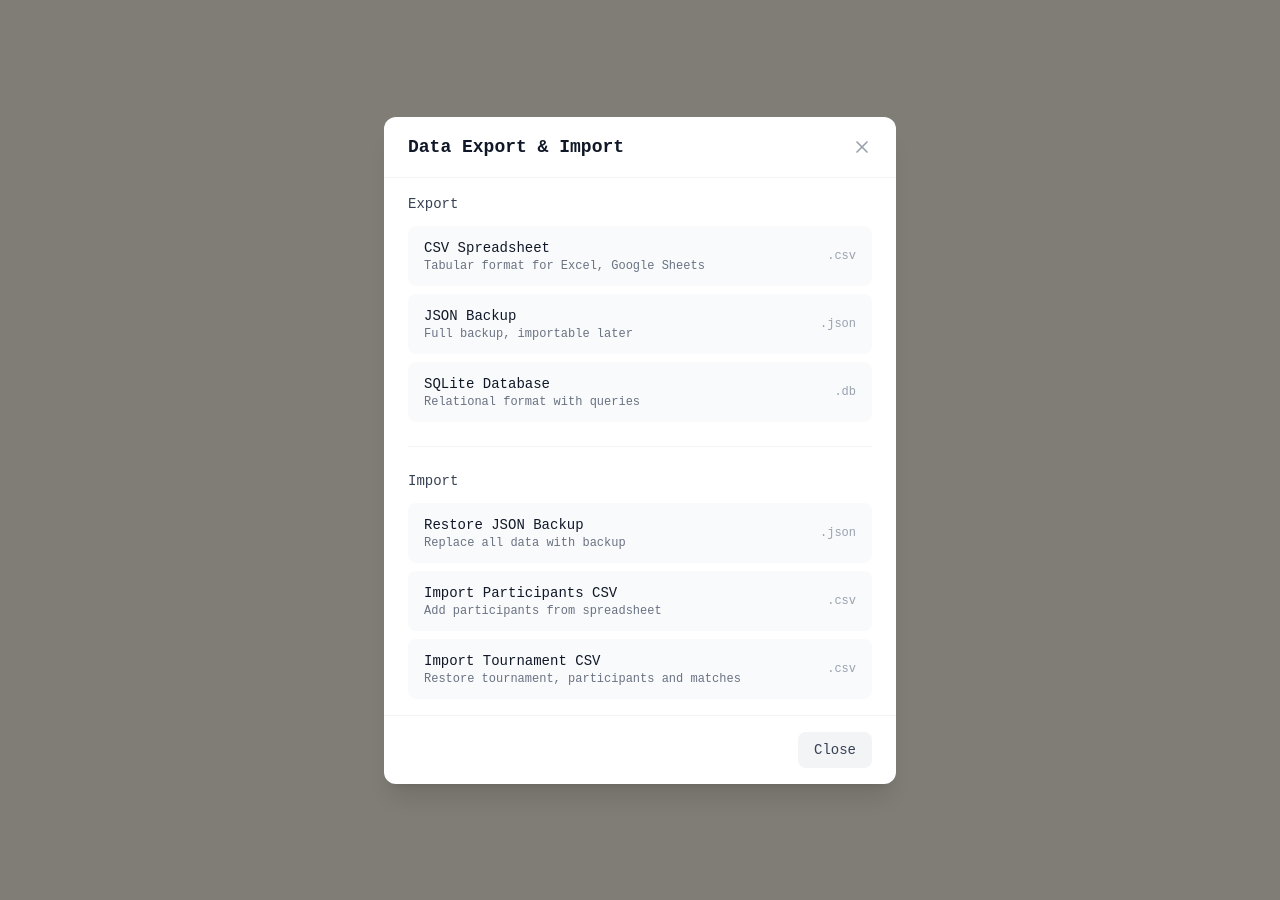
Test: ExportModal › reports a CSV export failure
Click the text "CSV Spreadsheet": x=487, y=248 [424,240,550,256]
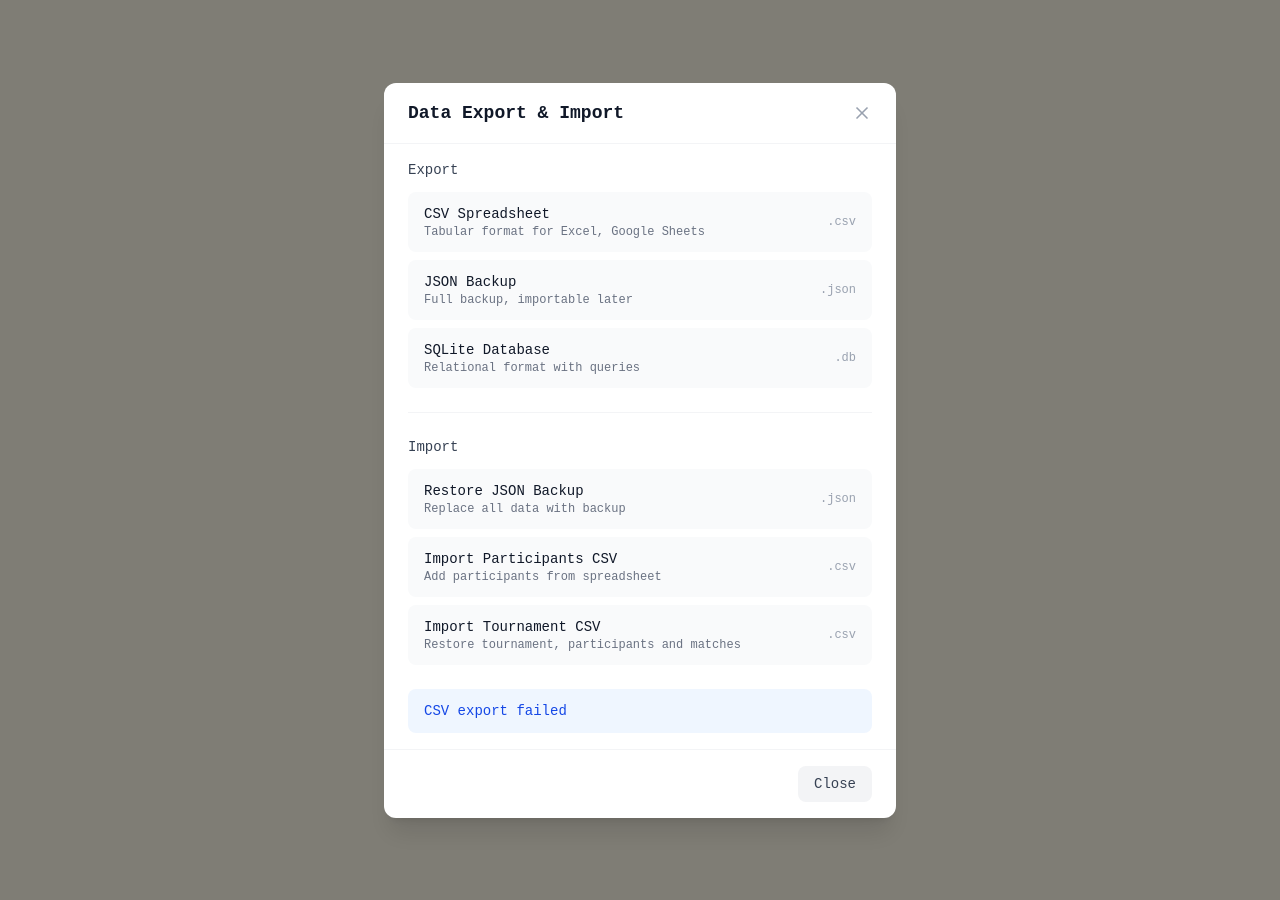
Expected: the text "CSV export failed" is shown, [424,700,567,720]
